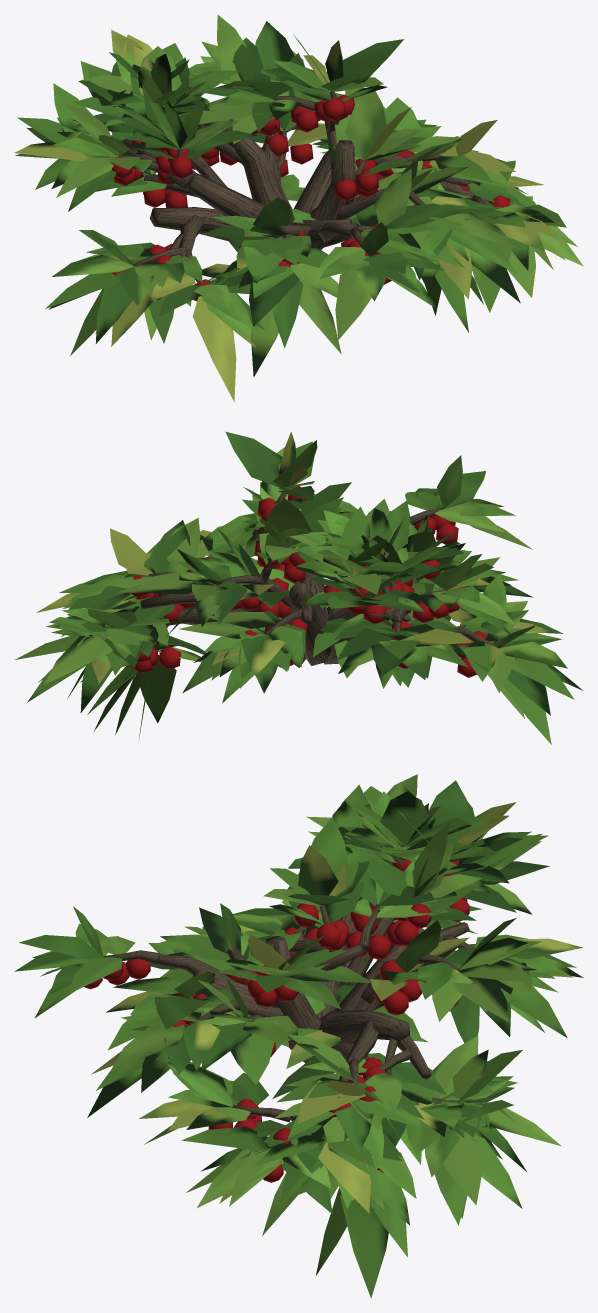
Rendered from Shrub_Berry.glb.
3 renders of one model, top to bottom at view 1: azimuth 30°, elevation 25°; view 2: azimuth 150°, elevation 25°; view 3: azimuth 270°, elevation 25°, orthographic. The views are drawn at different scales.
Parts seen in each view (by area): view 1: Shrub_Berry__Leaves, Shrub_Berry__Stems, Shrub_Berry__Berries; view 2: Shrub_Berry__Leaves, Shrub_Berry__Berries, Shrub_Berry__Stems; view 3: Shrub_Berry__Leaves, Shrub_Berry__Stems, Shrub_Berry__Berries.
Boxes of the visible parts, left/top/right/bottom form: Shrub_Berry__Leaves: left=14, top=15, right=583, bottom=401; Shrub_Berry__Stems: left=114, top=91, right=490, bottom=282; Shrub_Berry__Berries: left=110, top=94, right=510, bottom=301; Shrub_Berry__Leaves: left=15, top=431, right=582, bottom=744; Shrub_Berry__Berries: left=114, top=486, right=516, bottom=677; Shrub_Berry__Stems: left=140, top=490, right=497, bottom=667; Shrub_Berry__Leaves: left=14, top=774, right=583, bottom=1298; Shrub_Berry__Stems: left=103, top=846, right=475, bottom=1125; Shrub_Berry__Berries: left=84, top=859, right=469, bottom=1182.
Size of the model in its own units: 7.5 by 4.61 by 6.42.
Materials: 3 (3 with a texture image).
